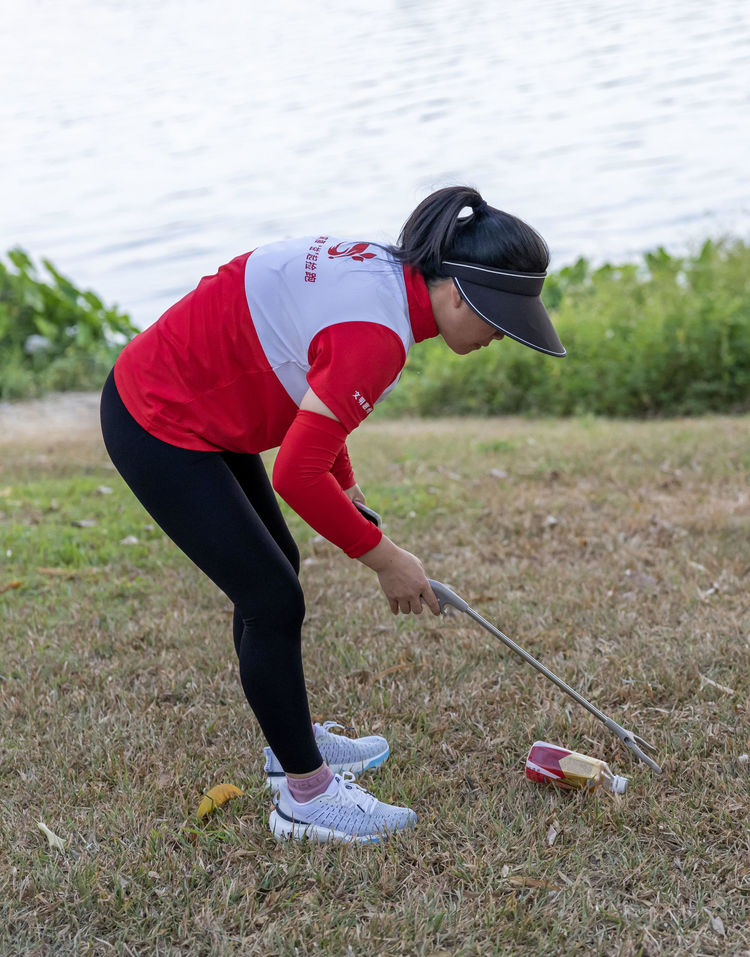bending: (87, 167, 567, 881)
